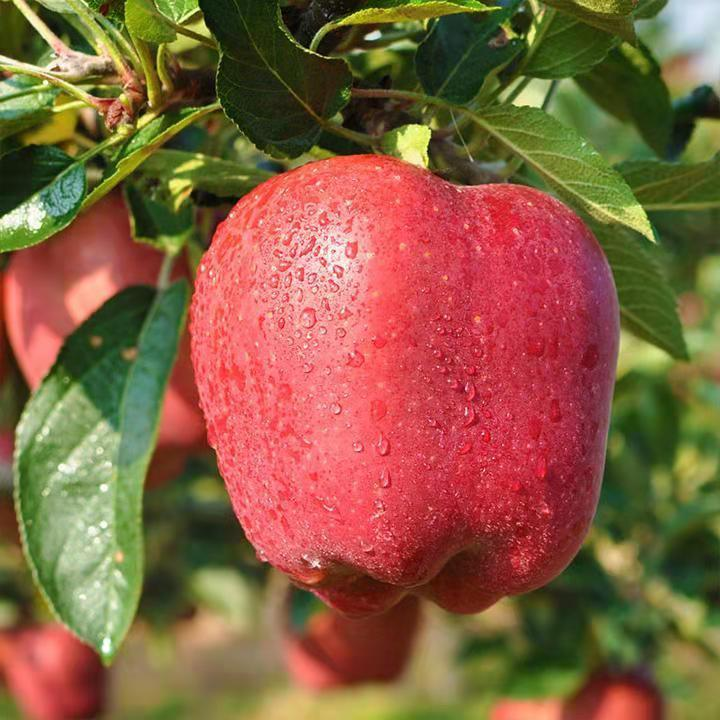apple: (193, 160, 635, 622)
